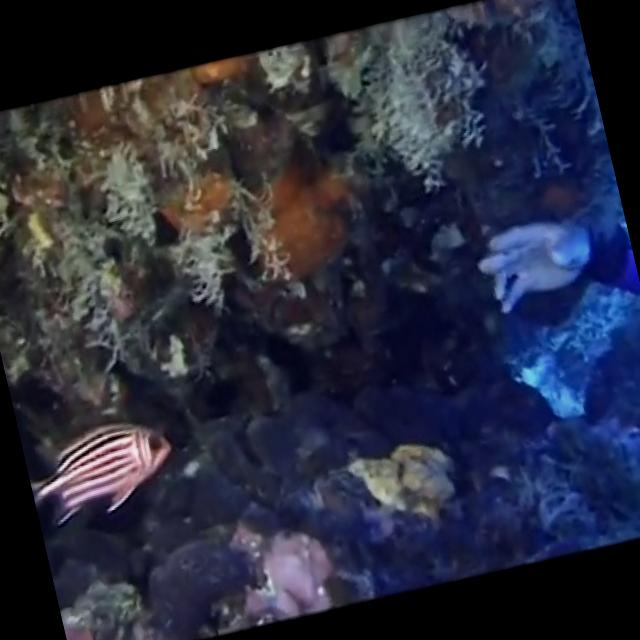Asker Baligi: (19, 406, 185, 534)
